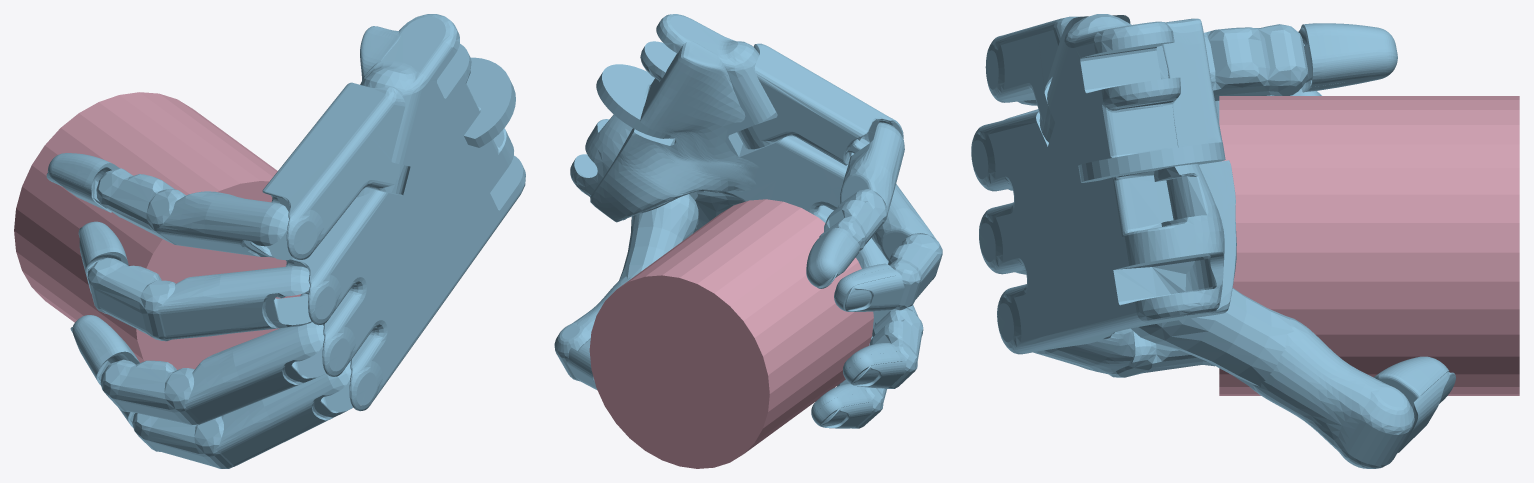
3 renders of one model, left to right at view 1: azimuth 30°, elevation 25°; view 2: azimuth 150°, elevation 25°; view 3: azimuth 270°, elevation 25°, orthographic. The views are drawn at different scales.
Visible parts, largest first — view 1: world; view 2: world; view 3: world.
Part boxes in pixels (box(x1,y1,x2,y2)): world: box(14, 14, 525, 468); world: box(554, 14, 942, 468); world: box(971, 14, 1519, 468).
Bounding box in the file's own units: 0.1587 × 0.1438 × 0.1461.
